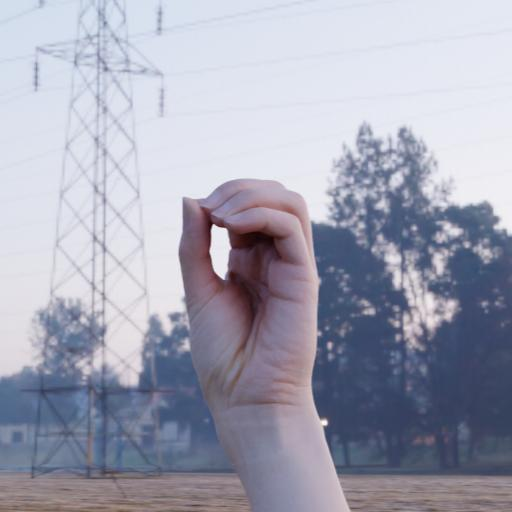O: (156, 153, 366, 446)
